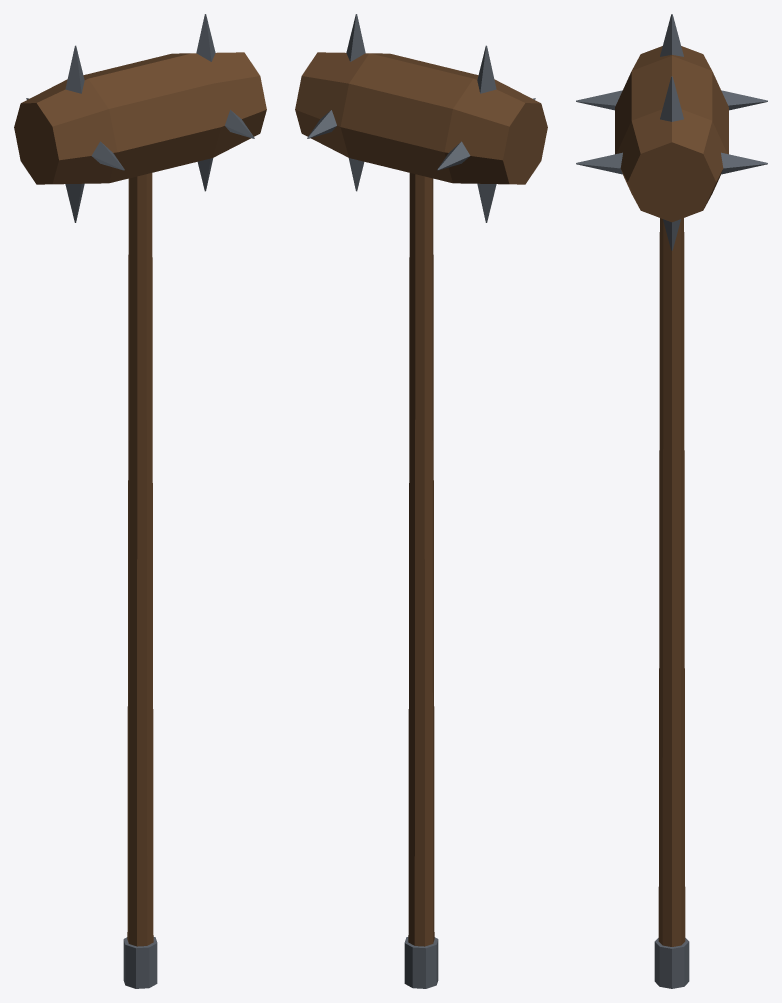
Rendered from g-maul-spiked.glb.
3 renders of one model, left to right at view 1: azimuth 30°, elevation 25°; view 2: azimuth 150°, elevation 25°; view 3: azimuth 270°, elevation 25°, orthographic.
Parts seen in each view (by area): view 1: g-maul-spiked; view 2: g-maul-spiked; view 3: g-maul-spiked.
Boxes of the visible parts, left/top/right/bottom form: g-maul-spiked: left=14, top=14, right=266, bottom=988; g-maul-spiked: left=295, top=14, right=547, bottom=988; g-maul-spiked: left=576, top=14, right=767, bottom=988.
Bounding box in the file's own units: 0.32 × 1.4 × 0.26.
